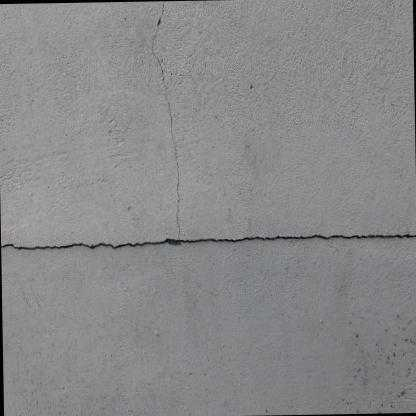crack: (1, 229, 416, 250), (150, 1, 180, 235)
